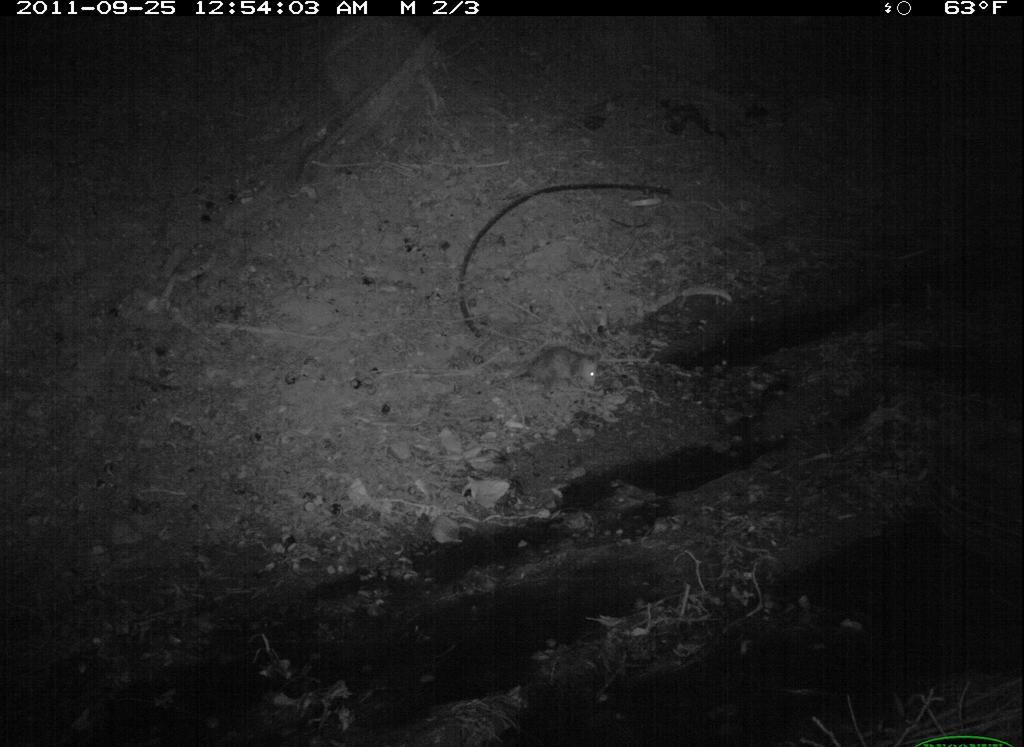opossum: (484, 338, 614, 411)
